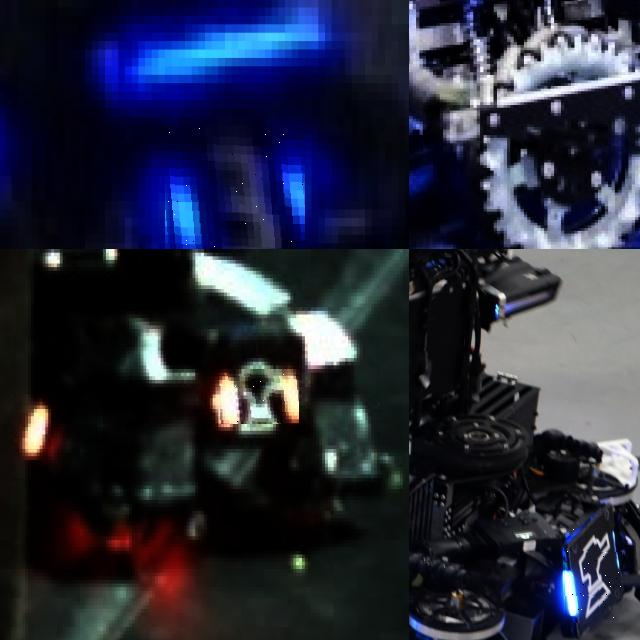B3: (158, 125, 304, 249)
Bs: (563, 528, 623, 623)
Rs: (216, 369, 299, 424)
